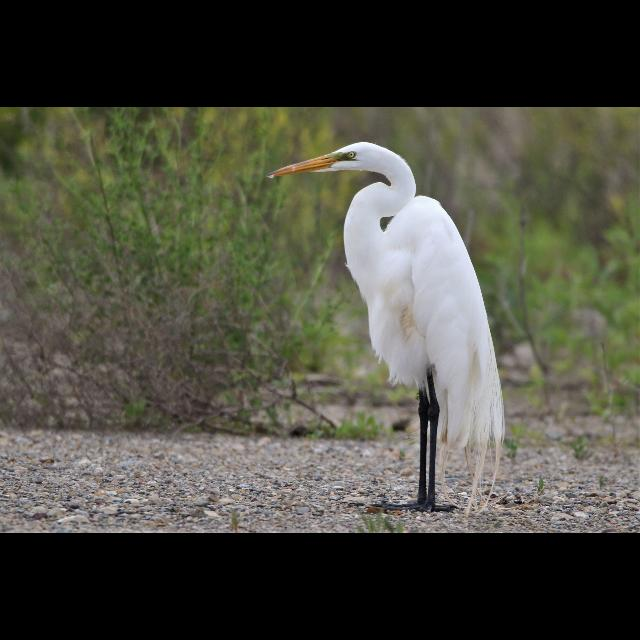egret: (269, 141, 505, 511)
